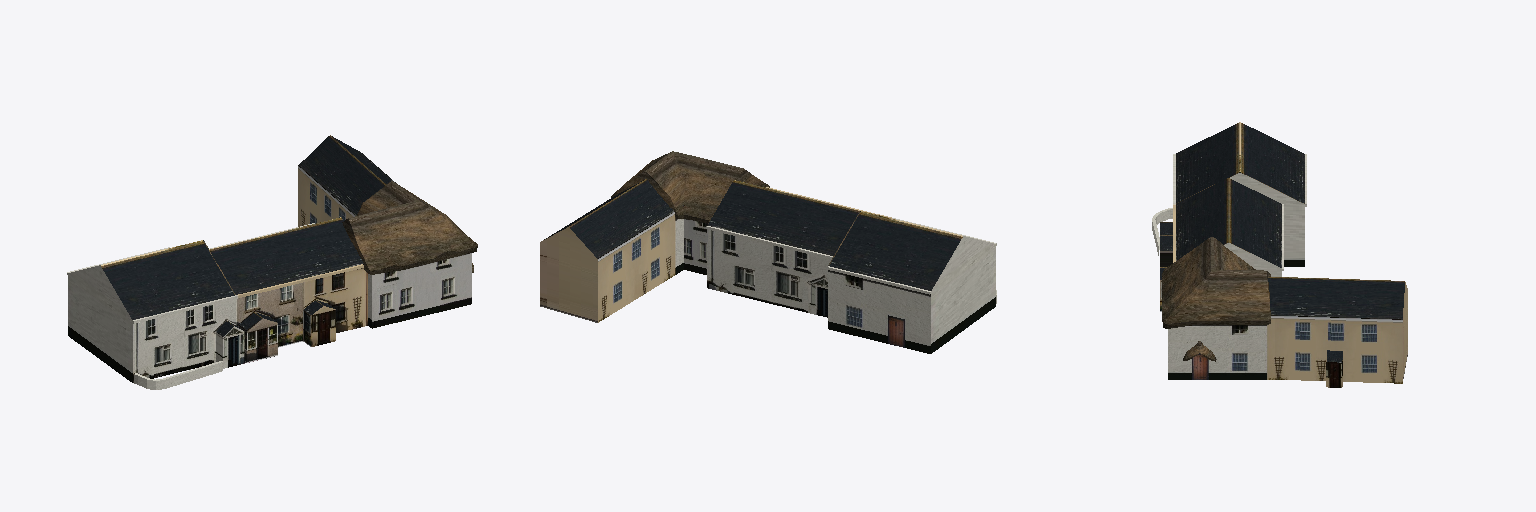
3 views of the same model, side by side, from view 1: azimuth 30°, elevation 25°; view 2: azimuth 150°, elevation 25°; view 3: azimuth 270°, elevation 25° (orthographic).
Parts seen in each view (by area): view 1: cottages; view 2: cottages; view 3: cottages.
Boxes of the visible parts, x1=… form: cottages: x1=67, y1=135, x2=477, y2=389; cottages: x1=540, y1=151, x2=996, y2=353; cottages: x1=1152, y1=122, x2=1407, y2=387.
Bounding box in the file's own units: 1109 × 292 × 700.
1 materials, 1 textured.